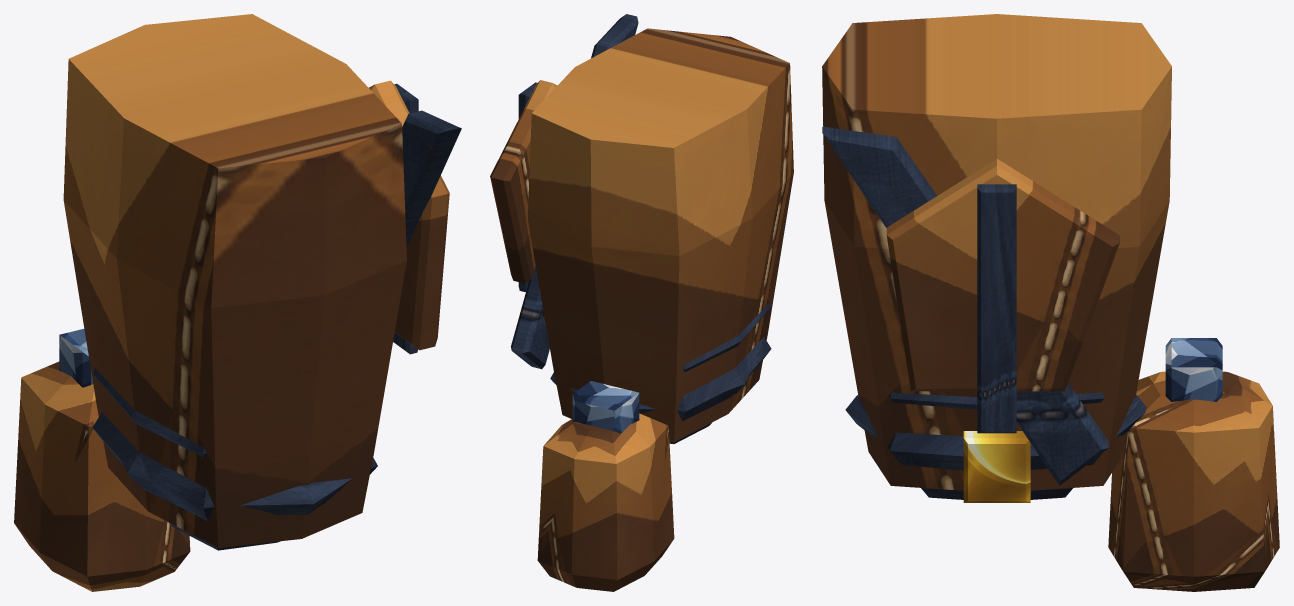
Rendered from scout.glb.
3 views of the same model, side by side, from view 1: azimuth 30°, elevation 25°; view 2: azimuth 150°, elevation 25°; view 3: azimuth 270°, elevation 25° (orthographic). The views are drawn at different scales.
Parts seen in each view (by area): view 1: chest, hips, arm_L, arm_R; view 2: chest, hips, arm_L, arm_R; view 3: chest, hips, arm_L, arm_R.
Part boxes in pixels (x1,y1,x2,y2): chest: [63, 14, 461, 547]; hips: [14, 329, 190, 591]; arm_L: [92, 412, 377, 550]; arm_R: [92, 368, 206, 457]; chest: [490, 14, 793, 442]; hips: [537, 381, 674, 591]; arm_L: [550, 337, 771, 443]; arm_R: [683, 303, 771, 372]; chest: [822, 14, 1171, 502]; hips: [1108, 338, 1279, 591]; arm_L: [888, 432, 1102, 499]; arm_R: [889, 392, 1104, 409].
Bounding box in the file's own units: 0.2825 × 0.4921 × 0.395.
Materials: 4 (4 with a texture image).
